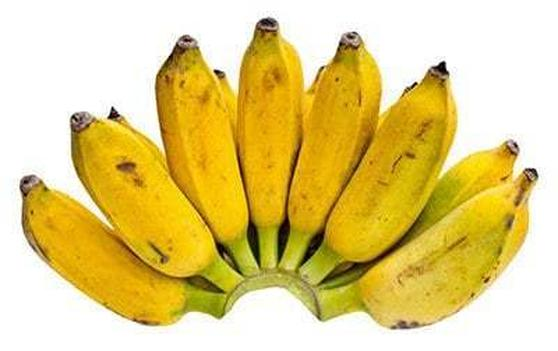banana: (4, 171, 252, 326)
